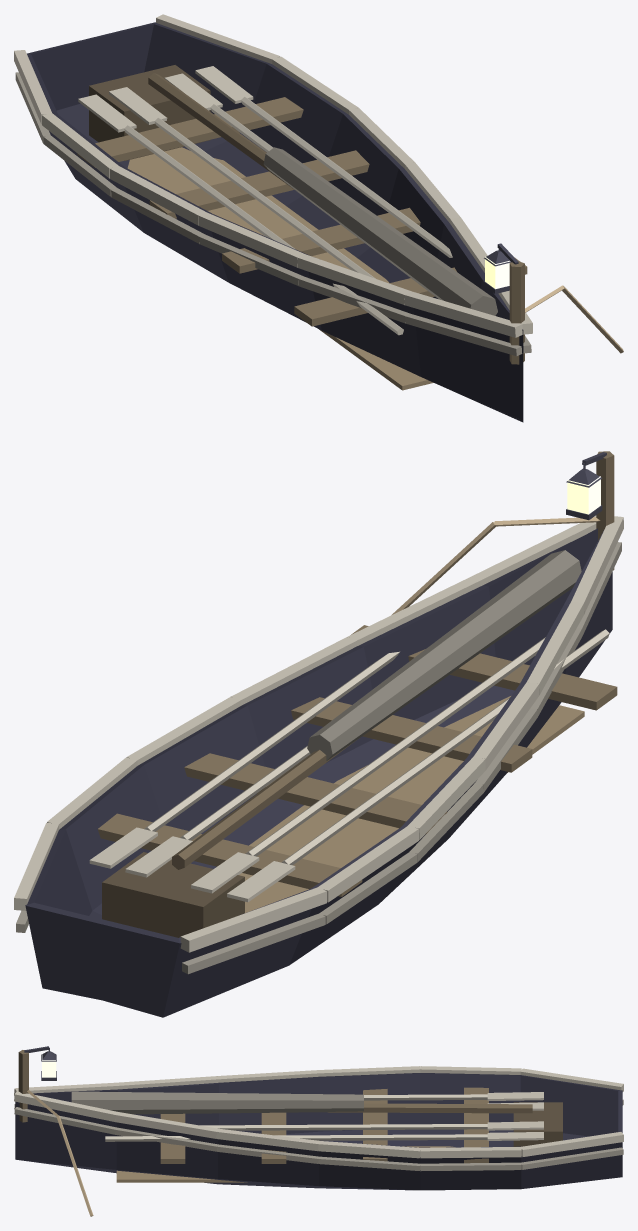
File: chapter_boat.glb
3 renders of one model, top to bottom at view 1: azimuth 30°, elevation 25°; view 2: azimuth 150°, elevation 25°; view 3: azimuth 270°, elevation 25°, orthographic. The views are drawn at different scales.
Visible parts, largest first — view 1: ink_l14, bone_d12, driftwood_d32, bone_d42, bone_d30, driftwood_d20, driftwood_d50, driftwood_d40, driftwood_d35, driftwood_l5, kindle_l5_glow, ink_l20; view 2: ink_l14, bone_d12, driftwood_d32, bone_d42, driftwood_d20, bone_d30, driftwood_d50, driftwood_d40, driftwood_l5, driftwood_d35, kindle_l5_glow, ink_l20; view 3: ink_l14, bone_d12, bone_d42, bone_d30, driftwood_d32, driftwood_d40, driftwood_d50, driftwood_d20, driftwood_d35, driftwood_l5, ink_l20, kindle_l5_glow.
Part boxes in pixels (<box>): ink_l14: <box>27,22,523,422</box>; bone_d12: <box>14,14,532,337</box>; driftwood_d32: <box>77,97,527,326</box>; bone_d42: <box>263,147,497,315</box>; bone_d30: <box>15,72,531,356</box>; driftwood_d20: <box>127,147,433,390</box>; driftwood_d50: <box>89,65,210,160</box>; driftwood_d40: <box>148,73,292,188</box>; driftwood_d35: <box>509,261,524,364</box>; driftwood_l5: <box>525,285,623,353</box>; kindle_l5_glow: <box>485,256,510,289</box>; ink_l20: <box>483,243,518,293</box>; ink_l14: <box>25,528,612,1017</box>; bone_d12: <box>14,515,623,952</box>; driftwood_d32: <box>97,625,617,896</box>; bone_d42: <box>307,550,581,760</box>; driftwood_d20: <box>239,696,584,912</box>; bone_d30: <box>16,542,621,974</box>; driftwood_d50: <box>102,852,244,937</box>; driftwood_d40: <box>172,740,356,869</box>; driftwood_l5: <box>392,517,600,614</box>; driftwood_d35: <box>596,451,614,570</box>; kindle_l5_glow: <box>567,475,600,514</box>; ink_l20: <box>566,452,606,520</box>; ink_l14: <box>15,1073,622,1190</box>; bone_d12: <box>14,1066,623,1158</box>; bone_d42: <box>71,1091,363,1114</box>; bone_d30: <box>14,1099,623,1171</box>; driftwood_d32: <box>160,1087,488,1163</box>; driftwood_d40: <box>327,1103,532,1113</box>; driftwood_d50: <box>513,1102,562,1146</box>; driftwood_d20: <box>116,1146,455,1182</box>; driftwood_d35: <box>18,1050,28,1122</box>; driftwood_l5: <box>27,1090,93,1216</box>; ink_l20: <box>24,1046,56,1080</box>; kindle_l5_glow: <box>42,1054,56,1077</box>.
Size of the model in its own units: 2.01 by 1.39 by 5.42.
